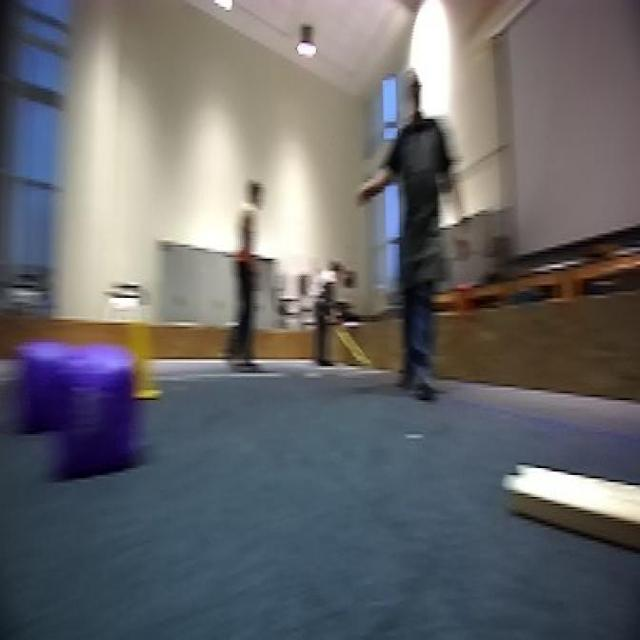frc_cone: (117, 313, 154, 405)
frc_cube: (61, 344, 136, 473), (25, 340, 74, 428)
